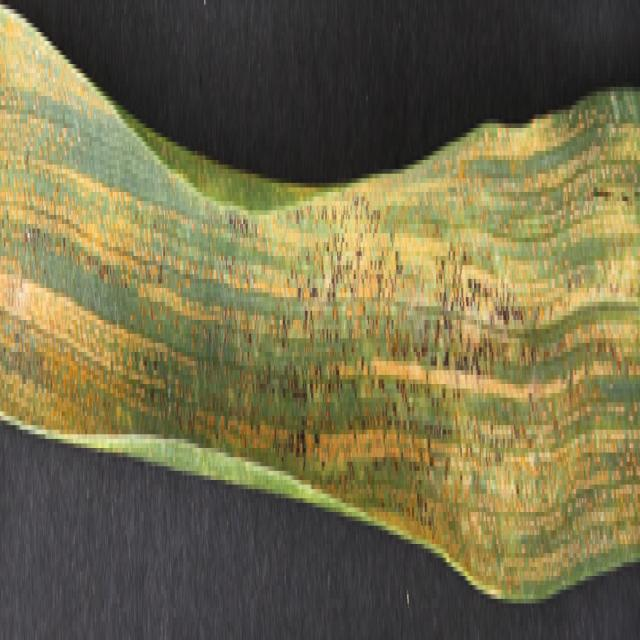leaf rust: (0, 27, 640, 516)
